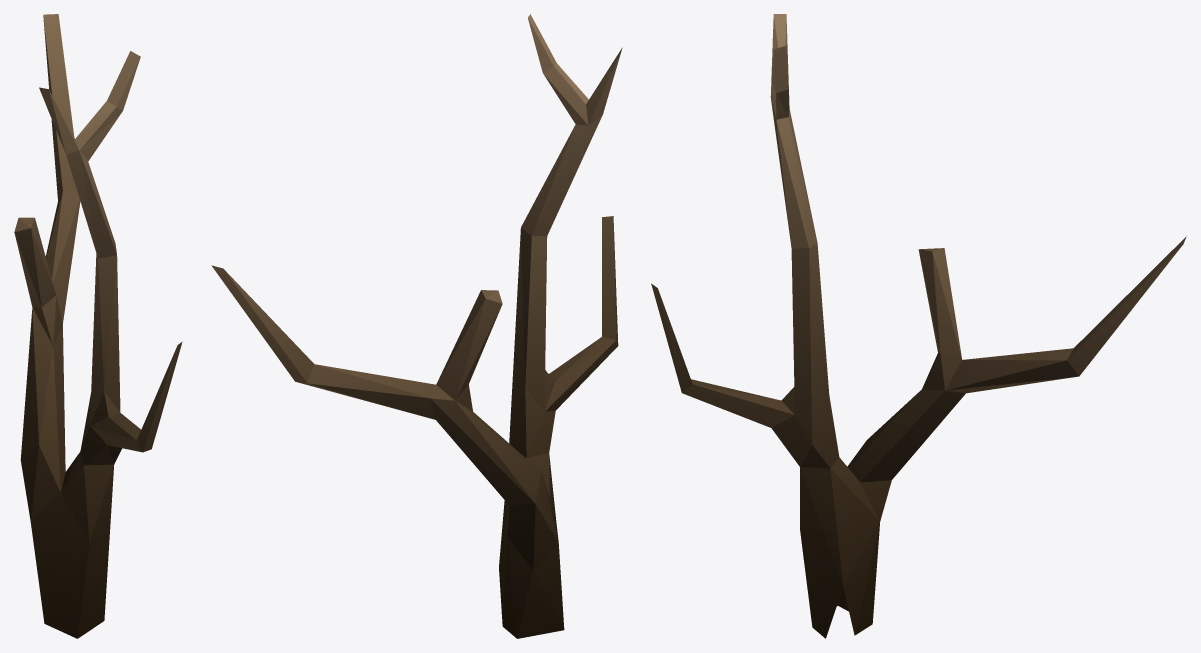
Rendered from props 0 - 06.fbx.
3 views of the same model, side by side, from view 1: azimuth 30°, elevation 25°; view 2: azimuth 150°, elevation 25°; view 3: azimuth 270°, elevation 25° (orthographic). The views are drawn at different scales.
Parts seen in each view (by area): view 1: 006; view 2: 006; view 3: 006.
Part boxes in pixels (x1,y1,x2,y2): 006: (14, 14, 182, 638); 006: (211, 14, 622, 638); 006: (651, 14, 1186, 638).
Size of the model in its own units: 36.61 by 96.32 by 77.68.
